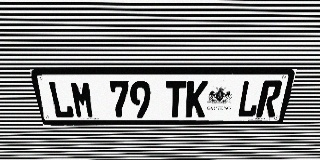7: (108, 81, 131, 118)
9: (130, 81, 151, 118)
K: (185, 81, 208, 117)
L: (47, 81, 75, 118), (236, 80, 263, 117)
M: (69, 81, 95, 118)
R: (256, 80, 284, 117)
T: (165, 81, 187, 118)
